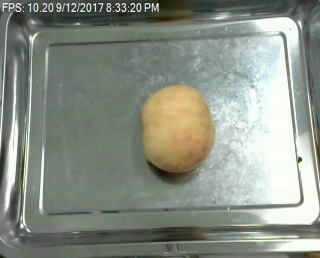Peach: (140, 84, 215, 173)
